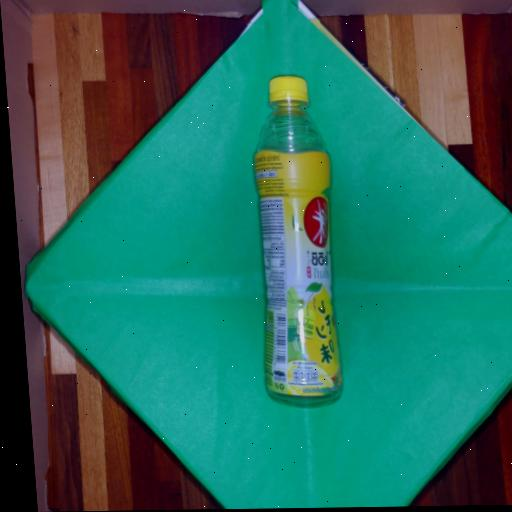bottle: (229, 62, 367, 422)
